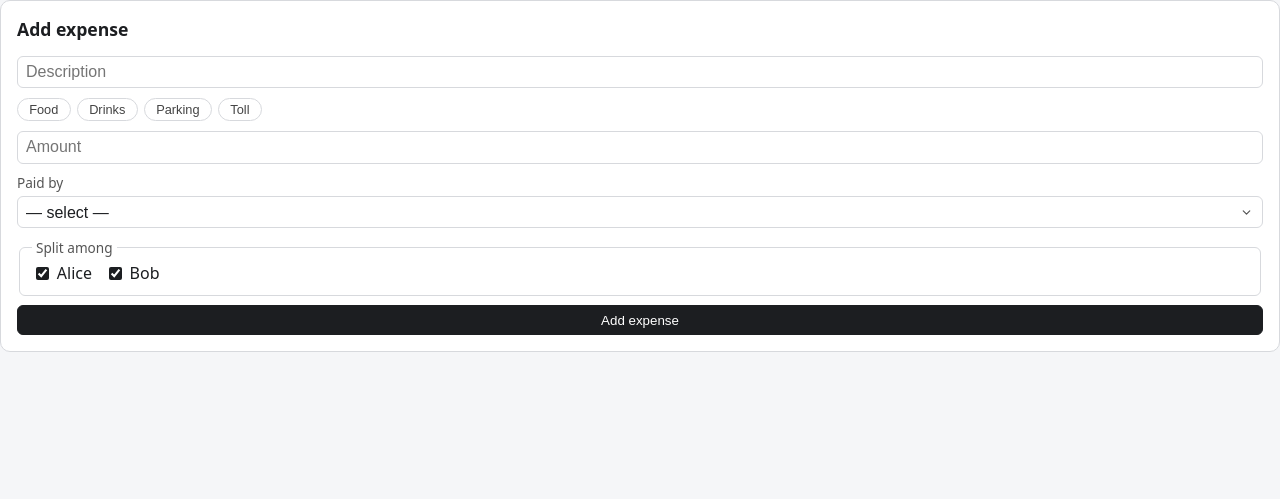
Scenario: ExpenseForm › shows inline validation errors on an empty submit
Step 1. Click the button "Add expense" → (640, 320), box 17,305 -> 1263,335
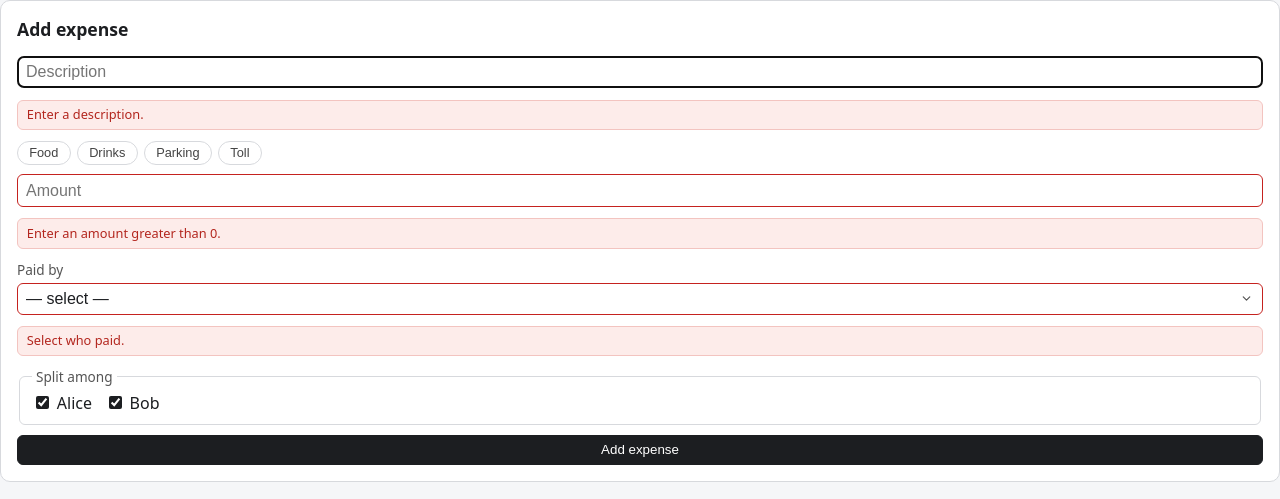
Now the text "Enter a description." is shown, box 17,100 -> 1263,130
Now the text "Enter an amount greater than 0." is shown, box 17,218 -> 1263,249
Now the text "Select who paid." is shown, box 17,326 -> 1263,356
